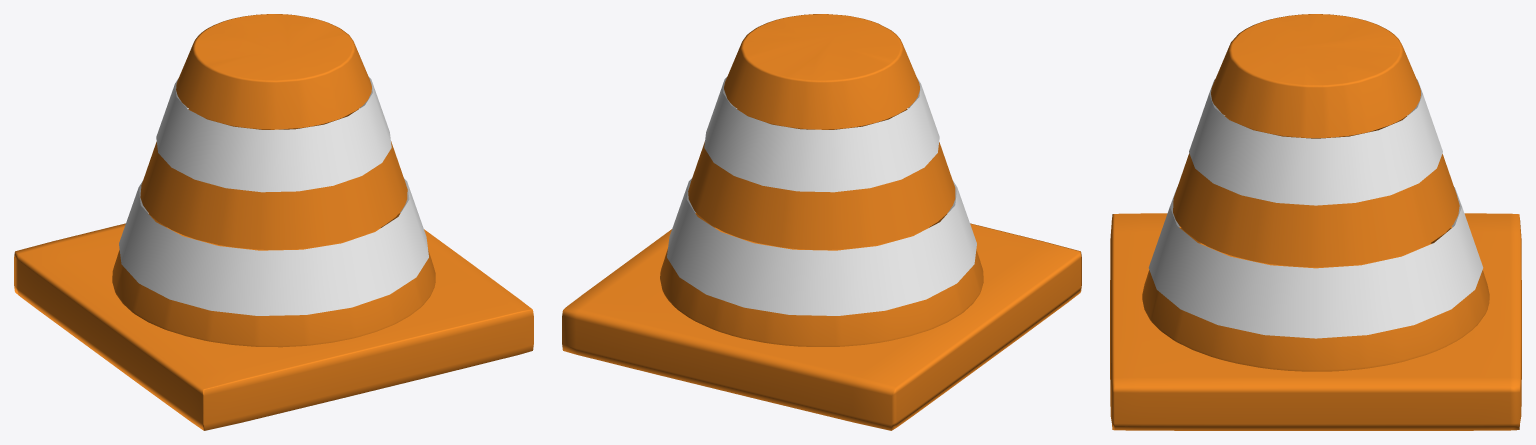
The model's file is luzhang.fbx.
3 views of the same model, side by side, from view 1: azimuth 30°, elevation 25°; view 2: azimuth 150°, elevation 25°; view 3: azimuth 270°, elevation 25° (orthographic). The views are drawn at different scales.
Visible parts, largest first — view 1: polySurface9, pCube1, polySurface7, polySurface8; view 2: polySurface9, pCube1, polySurface7, polySurface8; view 3: polySurface9, pCube1, polySurface7, polySurface8.
Boxes of the visible parts, x1,y1,x2,y2 form: polySurface9: [112, 14, 435, 347]; pCube1: [14, 213, 533, 430]; polySurface7: [119, 178, 428, 315]; polySurface8: [156, 77, 391, 192]; polySurface9: [660, 14, 983, 346]; pCube1: [562, 213, 1081, 430]; polySurface7: [667, 178, 976, 315]; polySurface8: [704, 77, 939, 192]; polySurface9: [1142, 14, 1489, 371]; pCube1: [1110, 213, 1521, 430]; polySurface7: [1148, 187, 1483, 338]; polySurface8: [1189, 79, 1442, 205].
Bounding box in the file's own units: 2 × 2 × 1.59.
